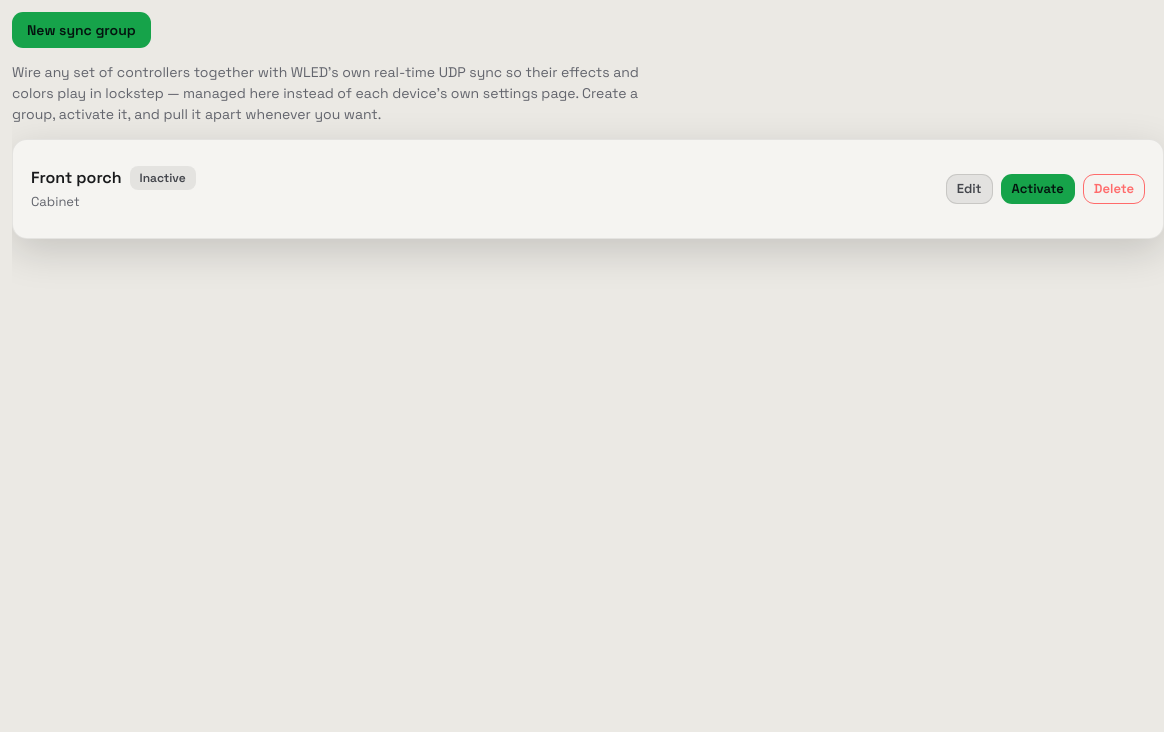
SyncSection › surfaces per-controller failures in a toast without blocking the active state
This screenshot has width=1164, height=732.
Expected: the text "Front porch" is shown, [31,166,122,190]
Click the button with aria-label "Activate Front porch". click: click(1038, 189)
box: [1001,174,1075,204]
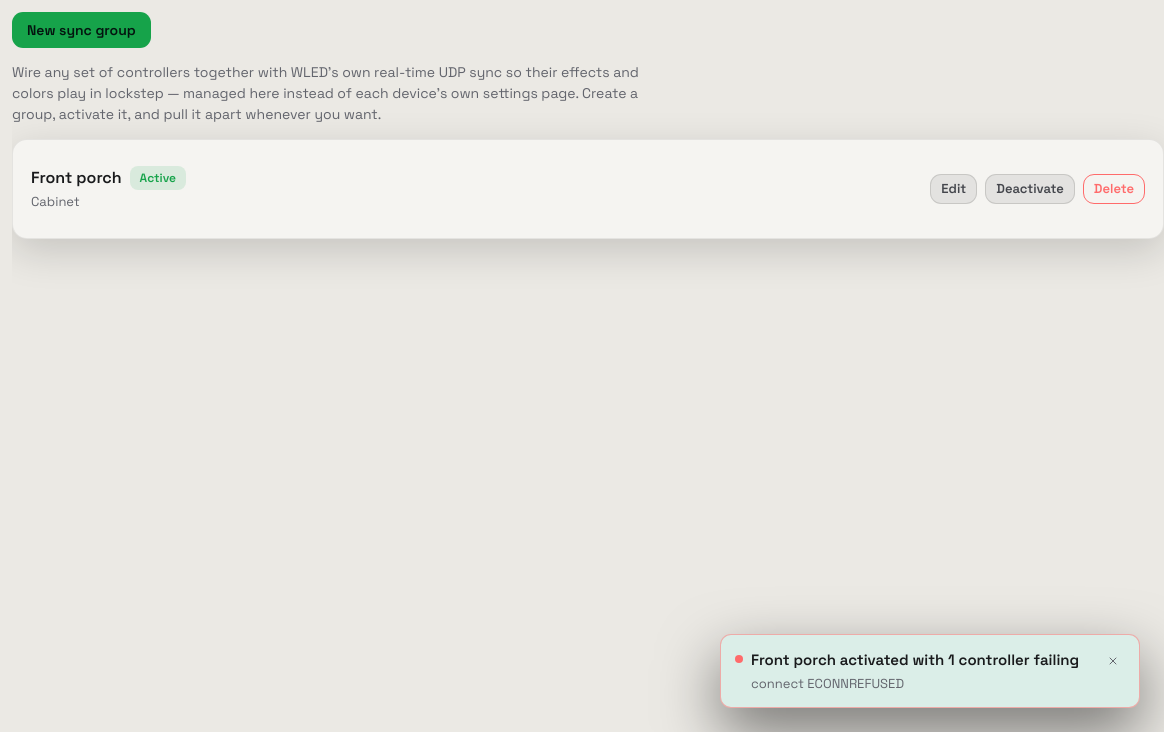
Expected: the text "Active" is shown, [130,166,186,190]
Expected: the text "Front porch activated with 1 controller failing" is shown, [751,649,1093,672]
Expected: the text "connect ECONNREFUSED" is shown, [751,674,904,692]
